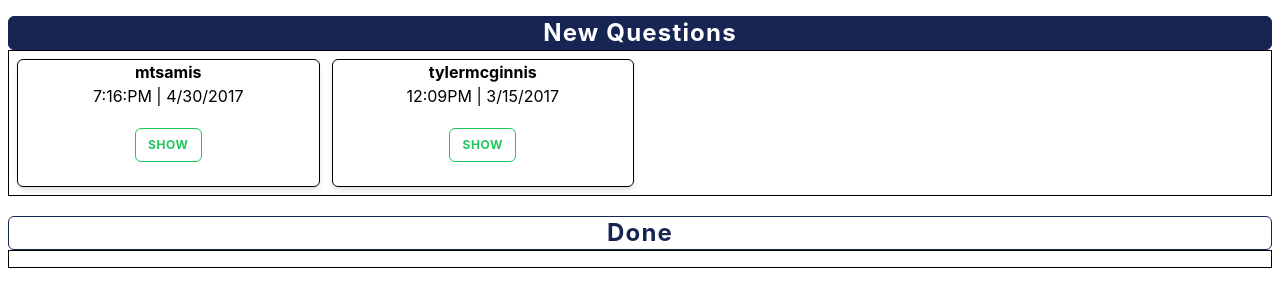
Scenario: PollsDashboard › will have toggle between question containers
Expected: the number of buttons "Show" is 2, [135,128,202,162]; [449,128,516,162]
# Change active container
Click the heading "Done". click: (640, 233)
box: [8,216,1272,250]
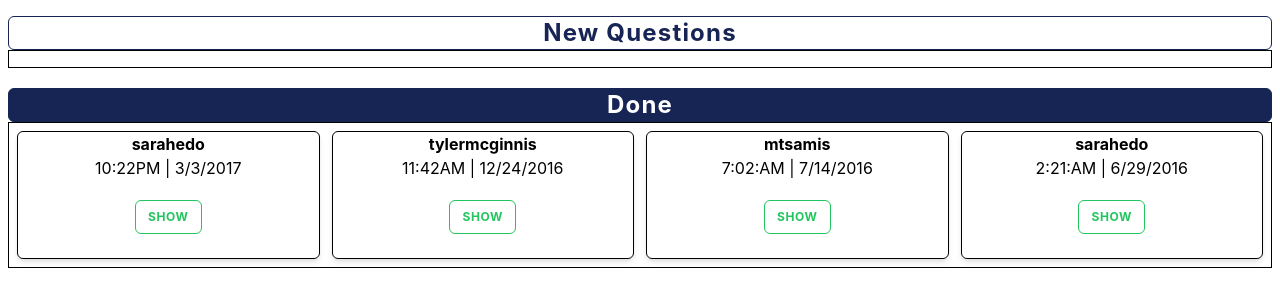
Expected: the number of buttons "Show" is 4, [135,200,202,234]; [449,200,516,234]; [764,200,830,234]; [1078,200,1145,234]
